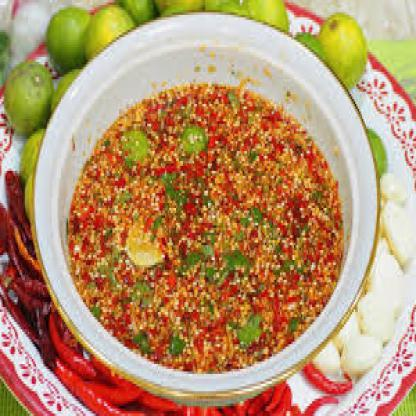Namprig: (49, 32, 355, 401)
